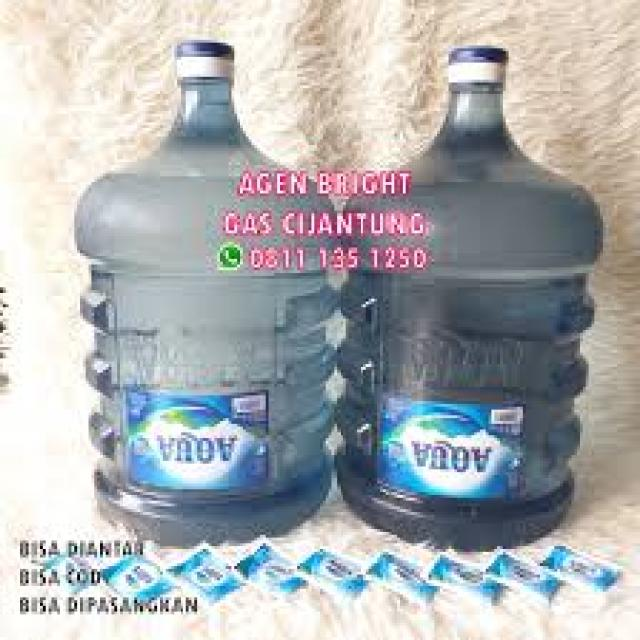Galon: (331, 42, 606, 552), (71, 37, 343, 546)
